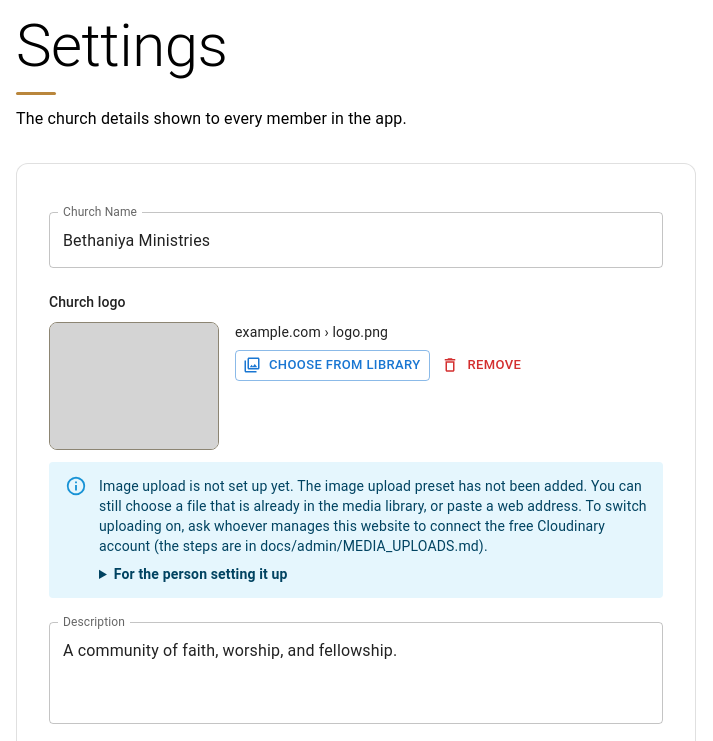
Test case: SettingsPage › blocks the confirm dialog and says a logo is required once it has been removed
This screenshot has width=713, height=741.
Click the button with test id "logo-remove".
click(482, 365)  # box x1=438 y1=350 x2=526 y2=381
(page scrolled)
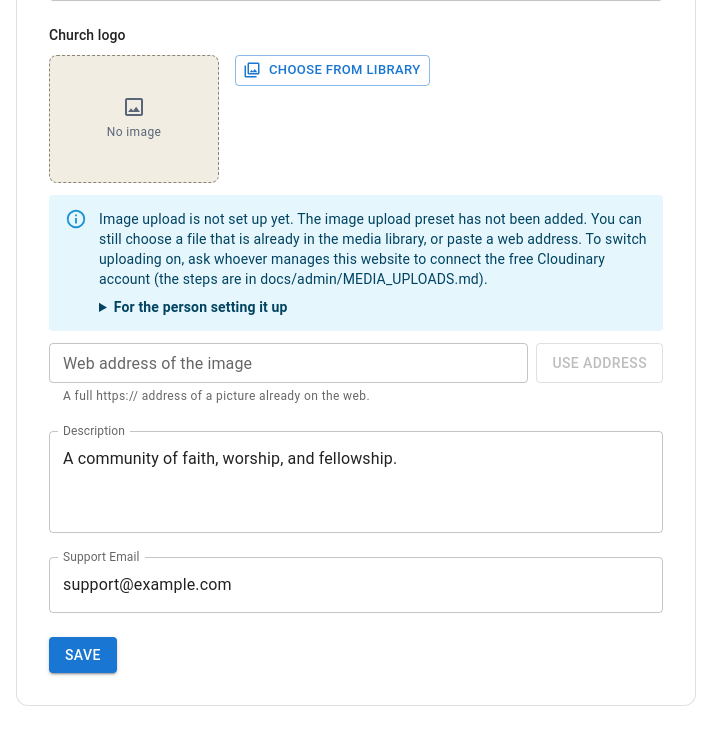
Click the button with test id "settings-save-button".
click(83, 655)  # box x1=49 y1=637 x2=117 y2=674
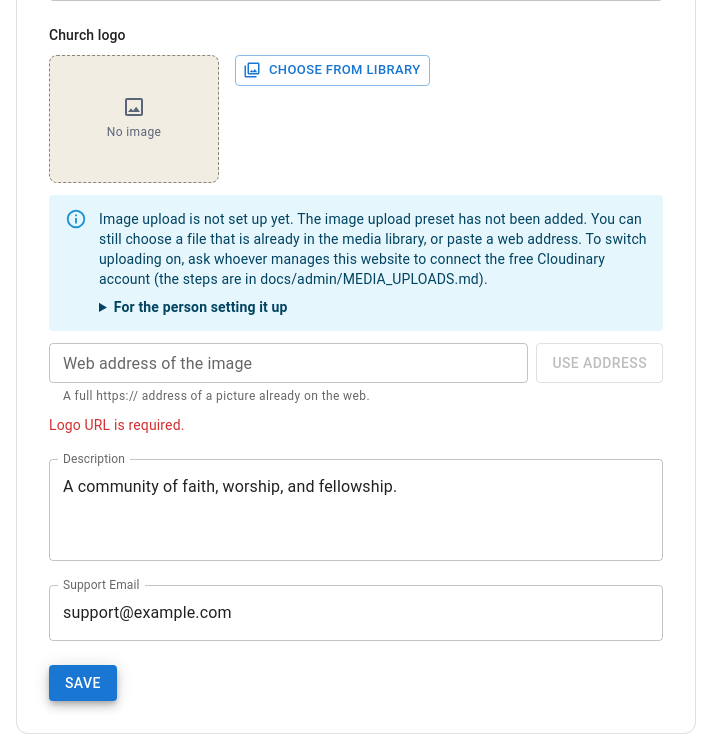
Expected: the text "Logo URL is required." is shown, x1=49 y1=417 x2=185 y2=433
